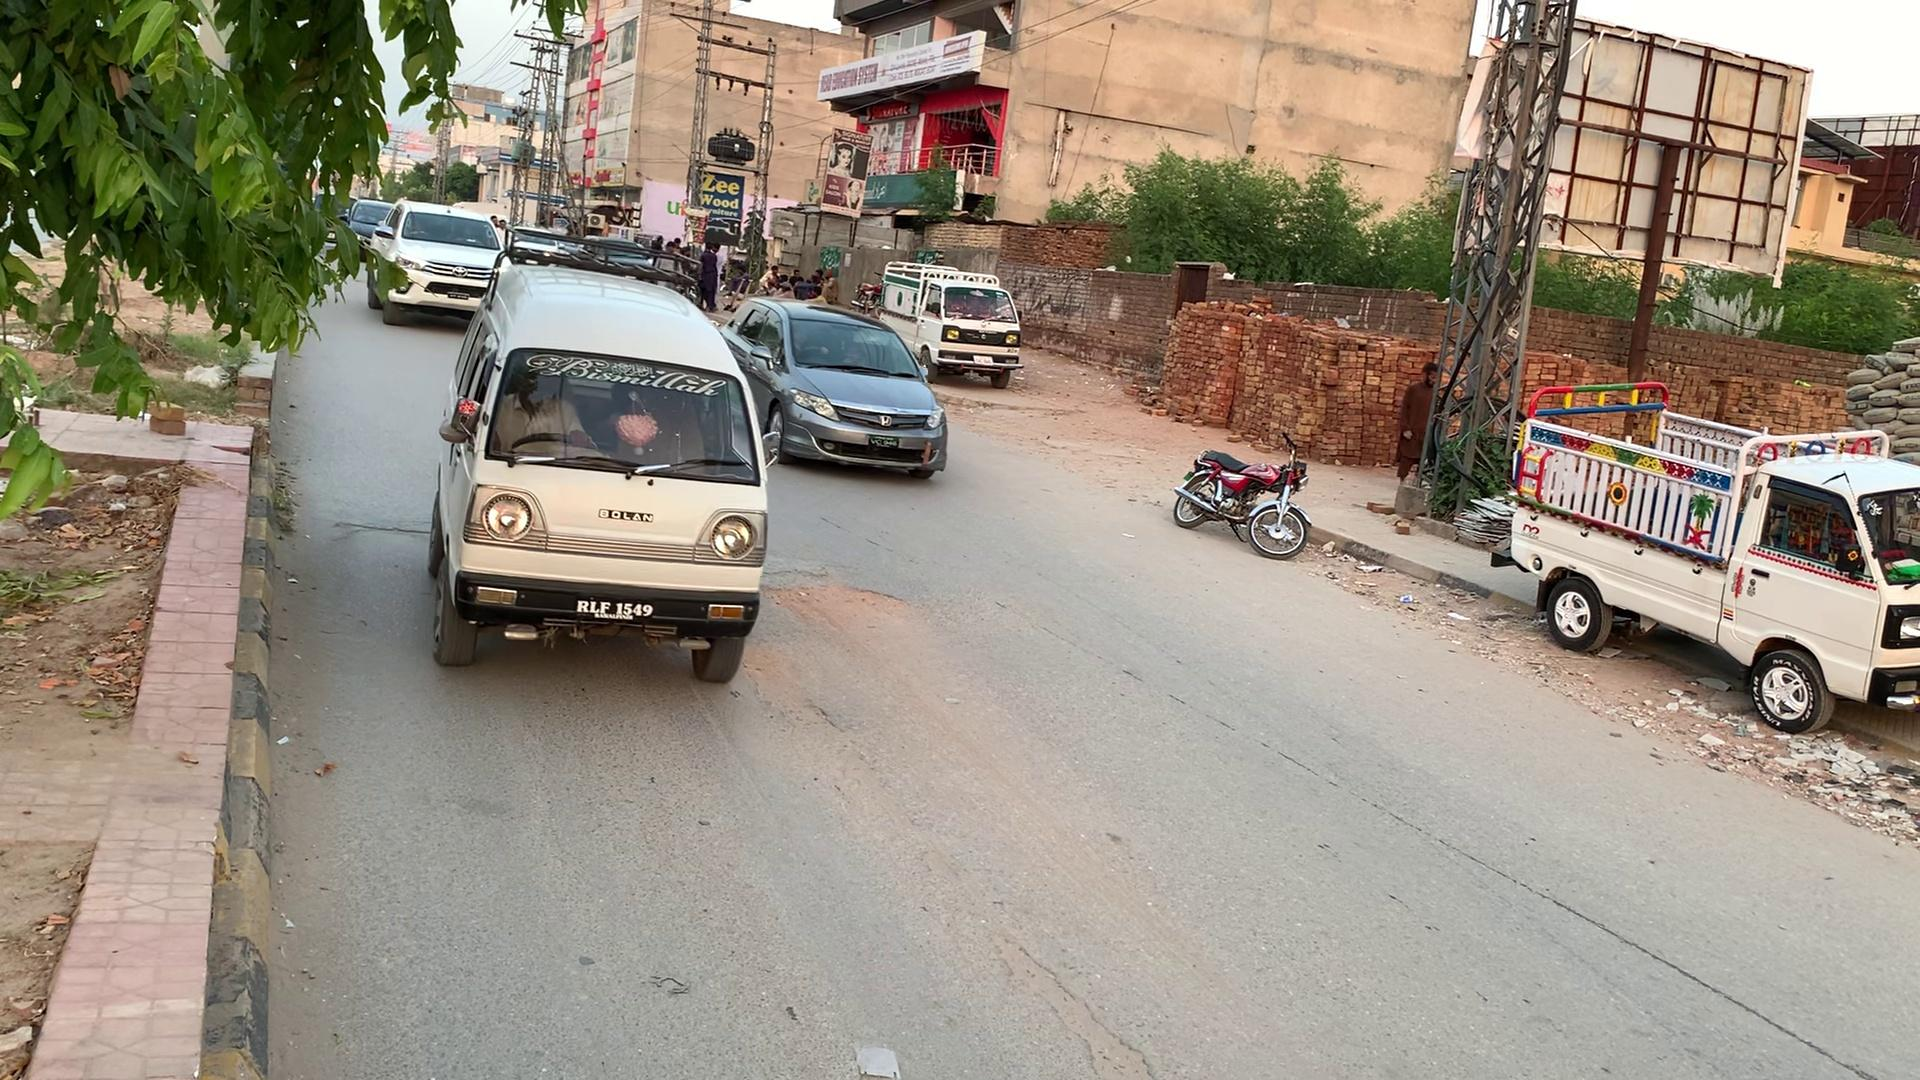windshield: (481, 347, 761, 497), (790, 309, 936, 380)
